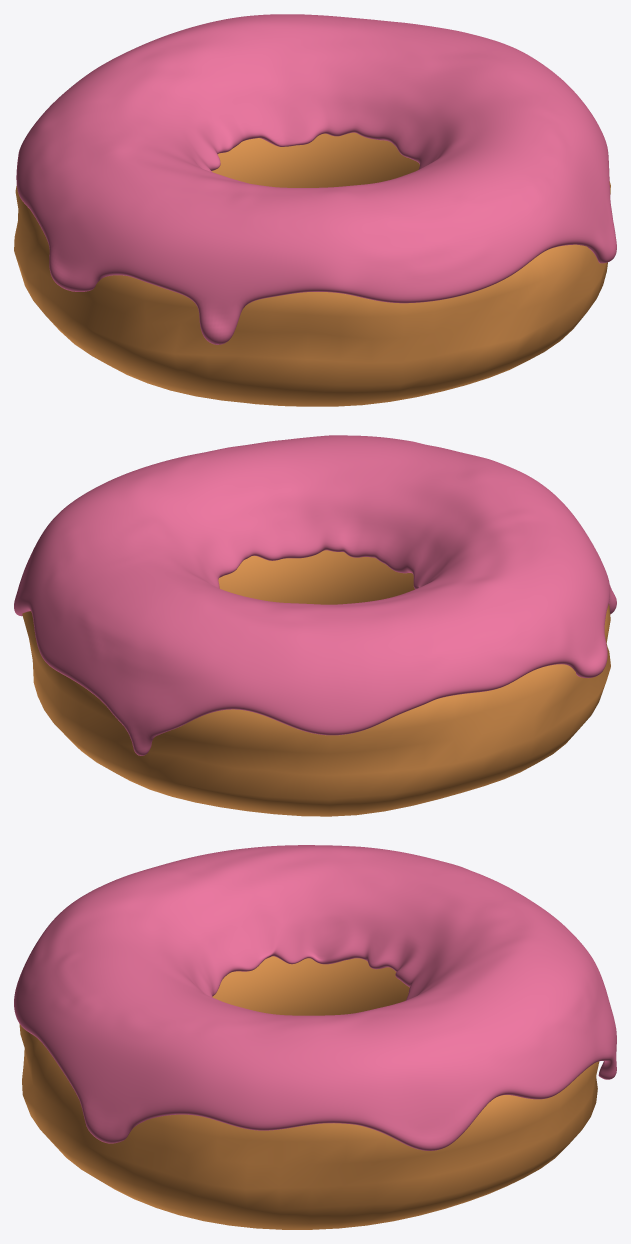
File: donut.glb
3 renders of one model, top to bottom at view 1: azimuth 30°, elevation 25°; view 2: azimuth 150°, elevation 25°; view 3: azimuth 270°, elevation 25°, orthographic. The views are drawn at different scales.
Parts seen in each view (by area): view 1: Icing, Donut; view 2: Icing, Donut; view 3: Icing, Donut.
Boxes of the visible parts, box(x1,y1,x2,y2) form: Icing: box(16, 14, 616, 344); Donut: box(14, 132, 610, 406); Icing: box(14, 435, 616, 755); Donut: box(22, 550, 610, 816); Icing: box(14, 845, 616, 1150); Donut: box(19, 956, 599, 1229).
Size of what is drawn, in the model's own units: 0.1497 by 0.0557 by 0.1487.
